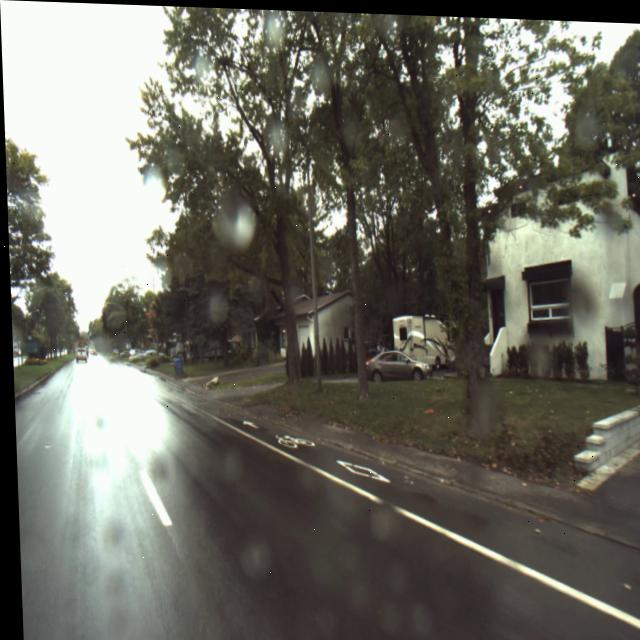car: (364, 348, 429, 381), (73, 347, 86, 363)
